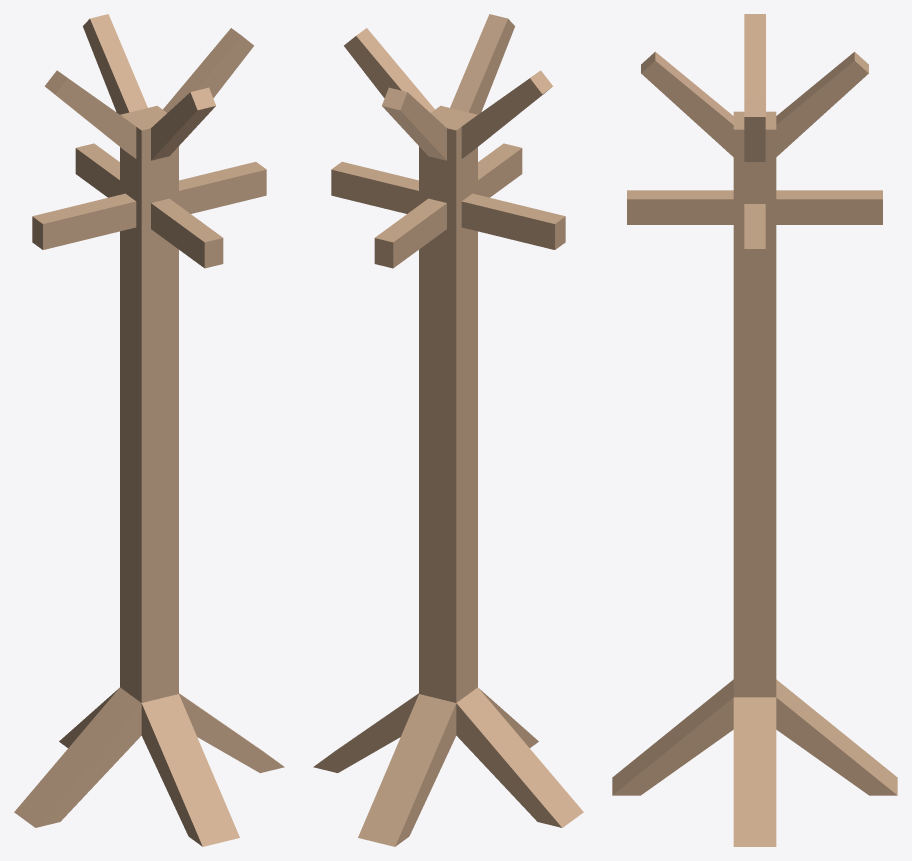
File: coatRackStanding.glb
3 renders of one model, left to right at view 1: azimuth 30°, elevation 25°; view 2: azimuth 150°, elevation 25°; view 3: azimuth 270°, elevation 25°, orthographic.
Visible parts, largest first — view 1: coatRackStanding; view 2: coatRackStanding; view 3: coatRackStanding.
Part boxes in pixels (box(x1,y1,x2,y2)): coatRackStanding: box(14, 14, 284, 846); coatRackStanding: box(313, 14, 583, 846); coatRackStanding: box(612, 14, 897, 846).
Bounding box in the file's own units: 0.2728 × 0.77 × 0.2728.
